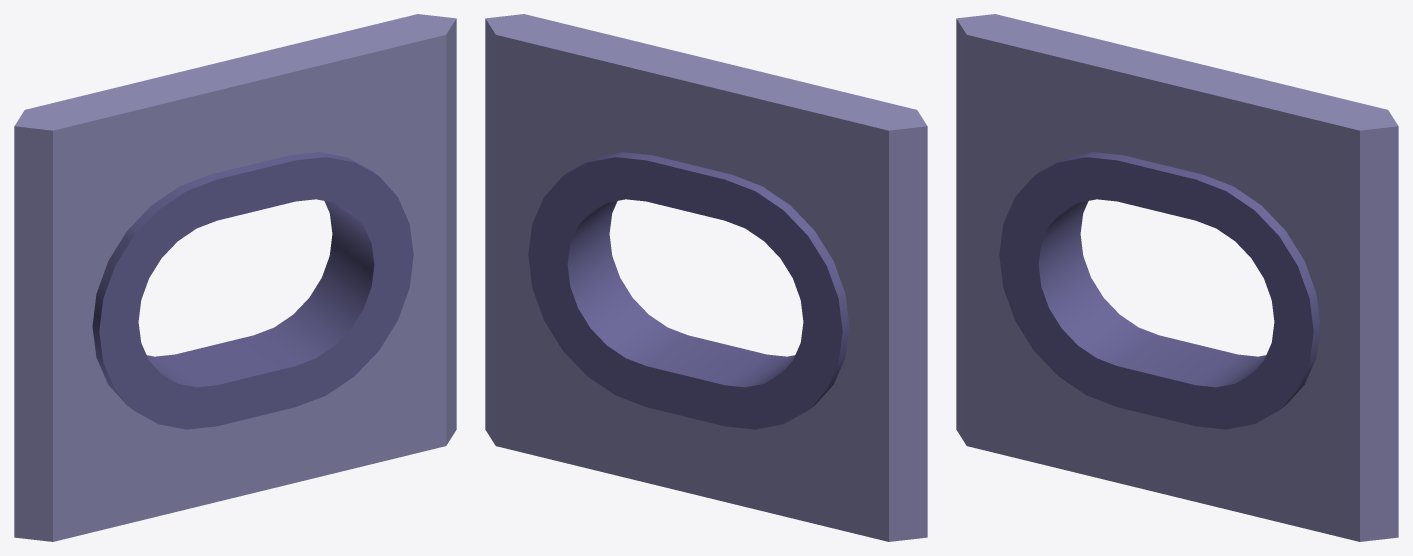
Rendered from Wall_OvalWindow.fbx.
The picture shows the model from 3 angles, left to right: view 1: azimuth 30°, elevation 25°; view 2: azimuth 150°, elevation 25°; view 3: azimuth 330°, elevation 25°; orthographic projection.
Parts seen in each view (by area): view 1: window_oval; view 2: window_oval; view 3: window_oval.
Part boxes in pixels (left/top/right/bottom): window_oval: left=14, top=14, right=456, bottom=541; window_oval: left=485, top=14, right=927, bottom=541; window_oval: left=956, top=14, right=1398, bottom=541.
Bounding box in the file's own units: 11.25 × 10 × 1.85.
